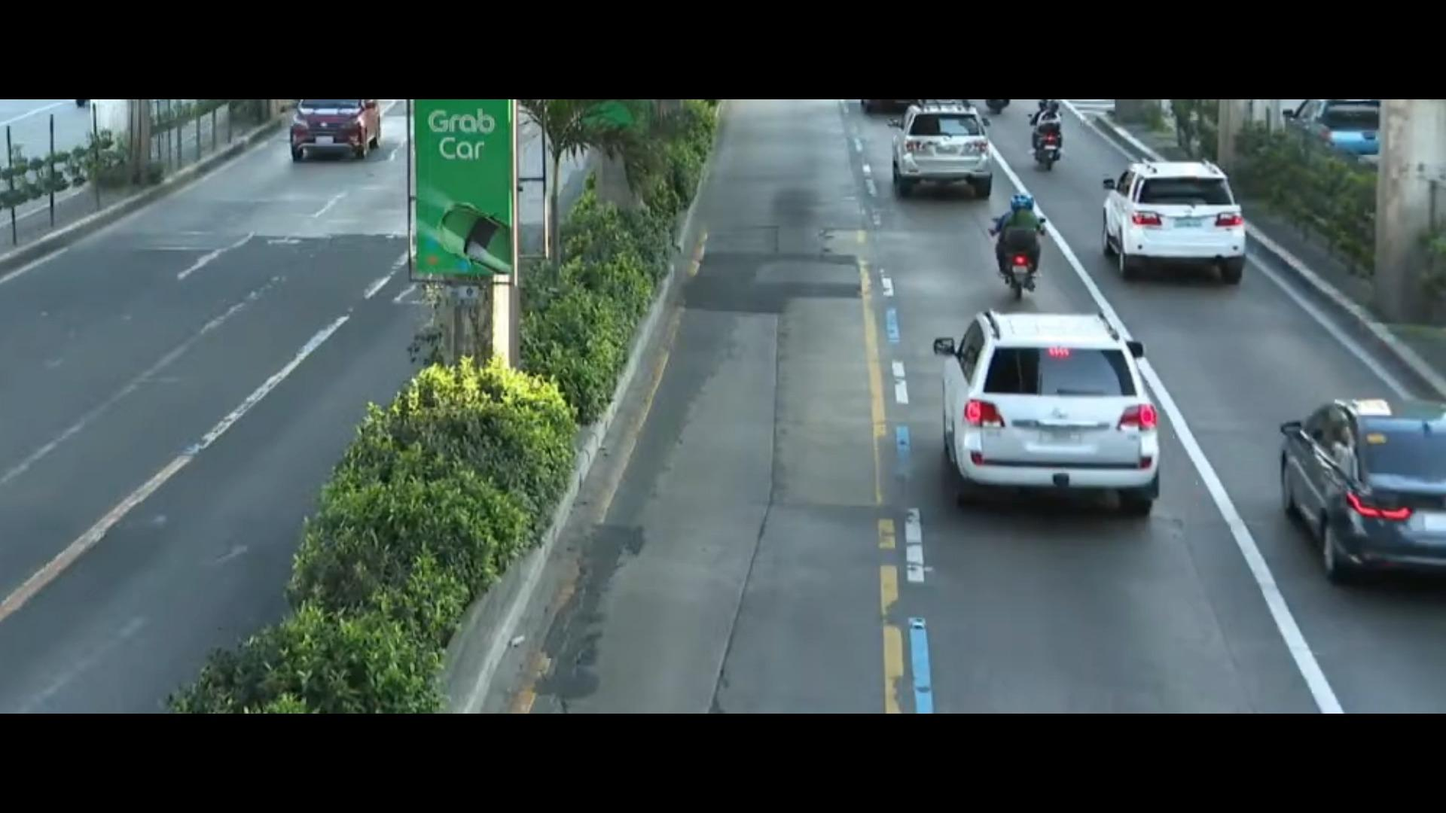Motorcycle: (968, 185, 1057, 297), (1018, 96, 1070, 178)
SUV: (888, 300, 1194, 521), (1094, 138, 1300, 273), (883, 95, 1015, 179), (275, 98, 382, 172)
Sedan: (1275, 367, 1446, 583)
